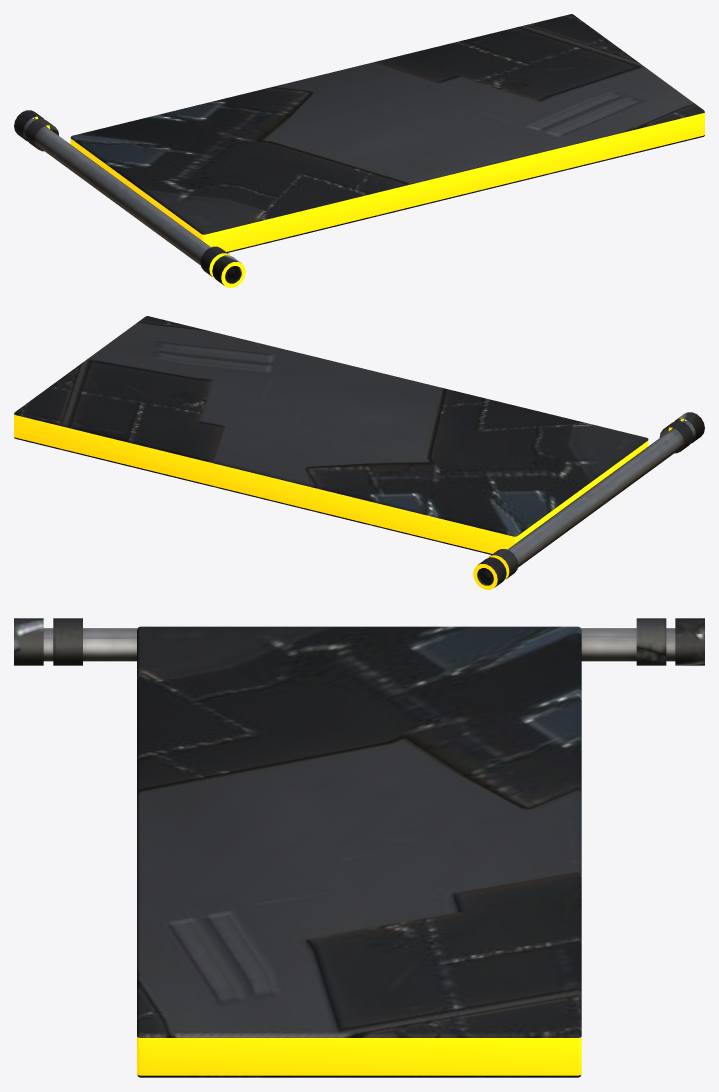
File: floor.01.machine9.gltf
3 renders of one model, top to bottom at view 1: azimuth 30°, elevation 25°; view 2: azimuth 150°, elevation 25°; view 3: azimuth 270°, elevation 25°, orthographic. The views are drawn at different scales.
Parts seen in each view (by area): view 1: floor.01.machine.11; view 2: floor.01.machine.11; view 3: floor.01.machine.11.
Part boxes in pixels (bbox=[...]): floor.01.machine.11: bbox=[14, 14, 704, 287]; floor.01.machine.11: bbox=[14, 316, 704, 589]; floor.01.machine.11: bbox=[14, 618, 704, 1077].
Size of what is drawn, in the model's own units: 10.17 by 0.5 by 6.99.
Materials: 2 (1 with a texture image).
